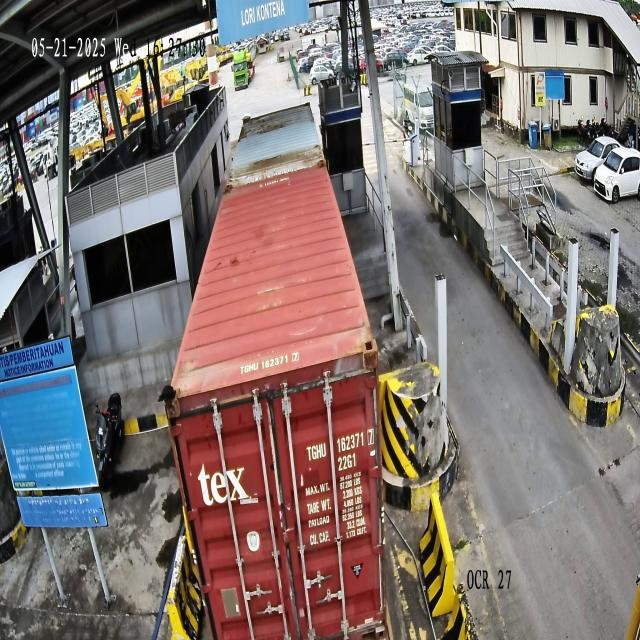ISO: (337, 451, 358, 472)
container_number: (306, 421, 376, 467)
